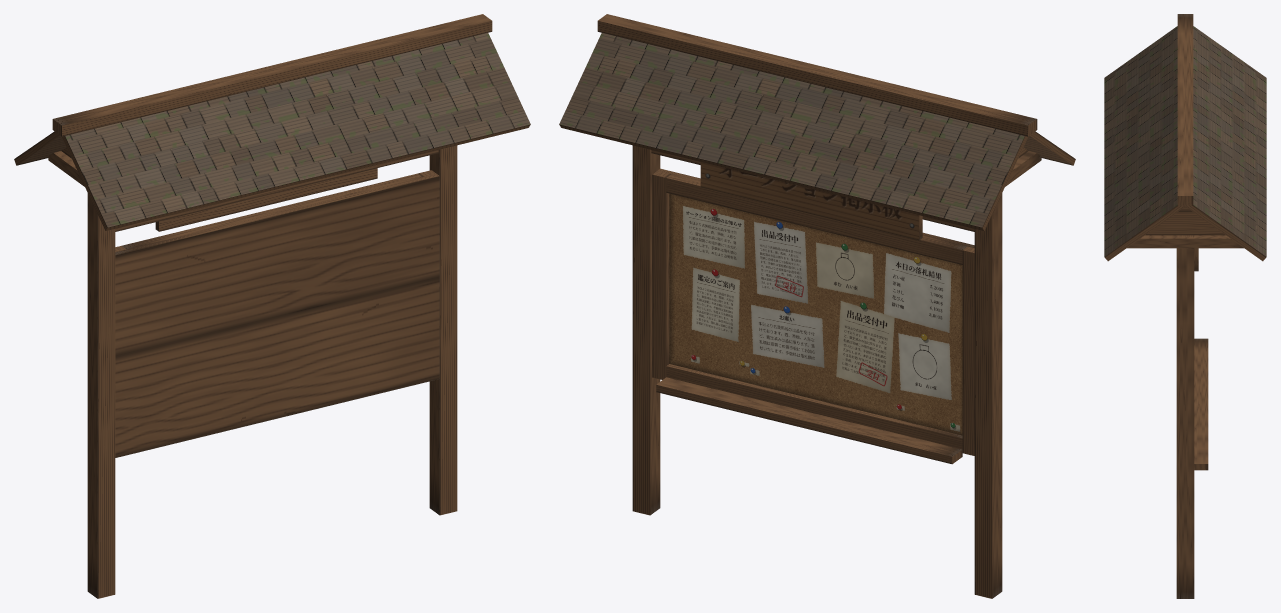
The model's file is AuctionBoard.obj.
3 views of the same model, side by side, from view 1: azimuth 30°, elevation 25°; view 2: azimuth 150°, elevation 25°; view 3: azimuth 270°, elevation 25° (orthographic). The views are drawn at different scales.
Parts seen in each view (by area): view 1: AuctionBoard; view 2: AuctionBoard; view 3: AuctionBoard.
Boxes of the visible parts, x1=… form: AuctionBoard: x1=14, y1=14, x2=530, y2=598; AuctionBoard: x1=559, y1=14, x2=1075, y2=598; AuctionBoard: x1=1104, y1=14, x2=1266, y2=598.
Bounding box in the file's own units: 2.44 × 2.61 × 0.92.
1 material, 1 textured.
